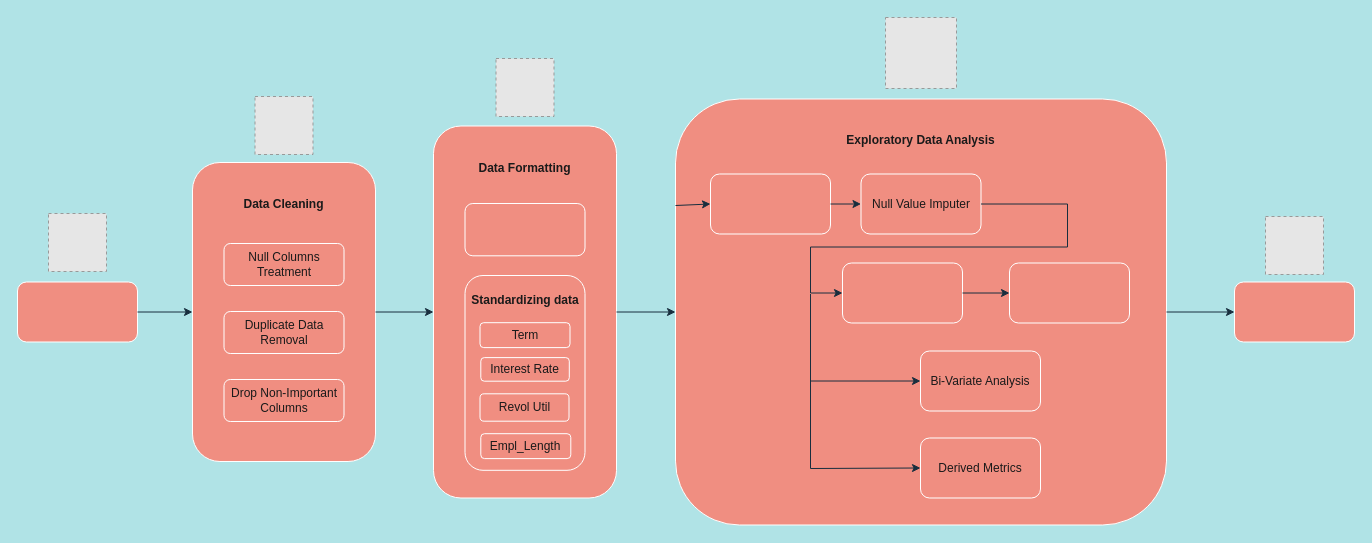
The diagram is 1372 pixels wide and 543 high, and some of its shapes have lost their labels. Grey dashed boxes stand in for pictures. Each missing label, with the centre of its shape:
"Correlation Analysis" belongs at point 770,203.
"Date Columns" belongs at point 524,229.
"Input Loan Data" belongs at point 77,311.
"Output Business Drivers" belongs at point 1294,311.
"Segemented Univariate Analysis" belongs at point 1069,292.
"Univariate Analysis" belongs at point 902,292.
